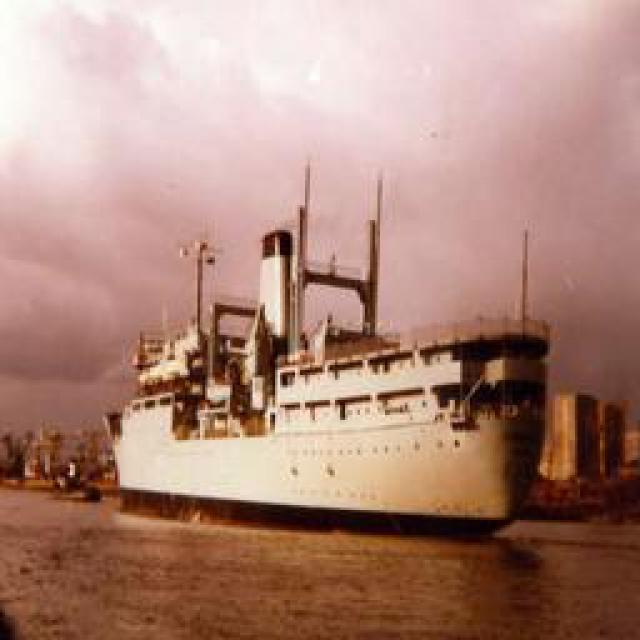Ship: (111, 149, 539, 529)
